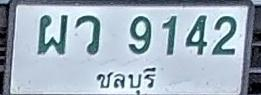1: (162, 15, 176, 55)
2: (212, 15, 236, 54)
4: (186, 15, 206, 54)
9: (128, 15, 150, 54)
A28: (38, 14, 68, 54)
A37: (75, 15, 100, 54)
CBI: (91, 65, 158, 95)
